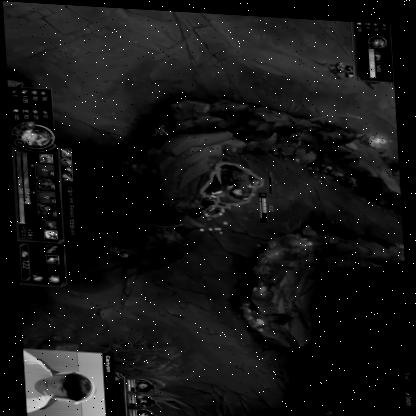streamer: (19, 348, 92, 415)
